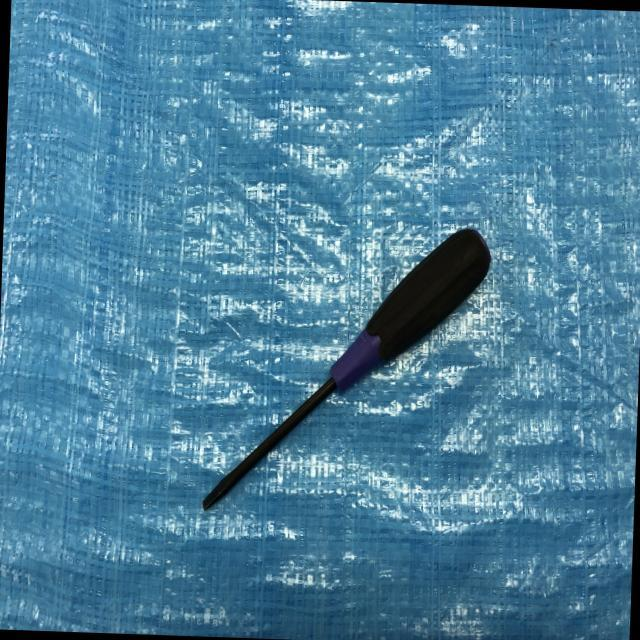screwdriver: (195, 208, 500, 530)
